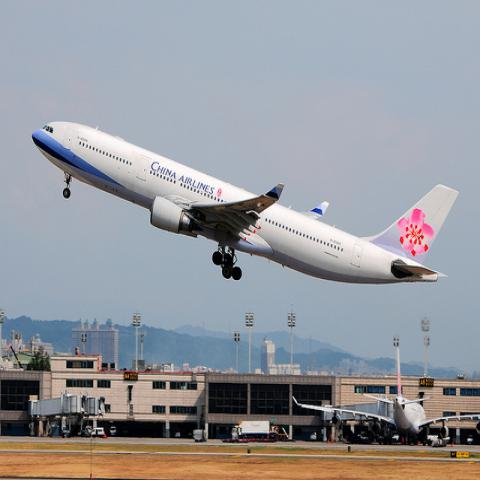bus: (110, 426, 116, 436)
truck: (230, 420, 270, 443)
